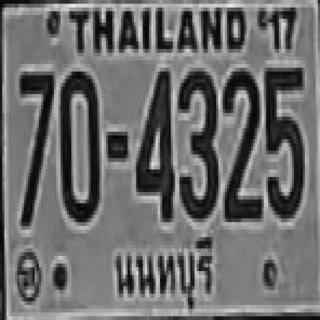N00: (58, 68, 97, 218)
N02: (222, 68, 260, 218)
N03: (177, 68, 216, 218)
N04: (134, 68, 173, 218)
N05: (264, 64, 303, 215)
N07: (17, 68, 52, 222)
P37: (111, 226, 222, 316)
